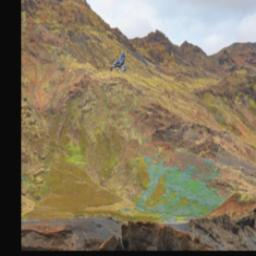Crow: (109, 52, 126, 72)
